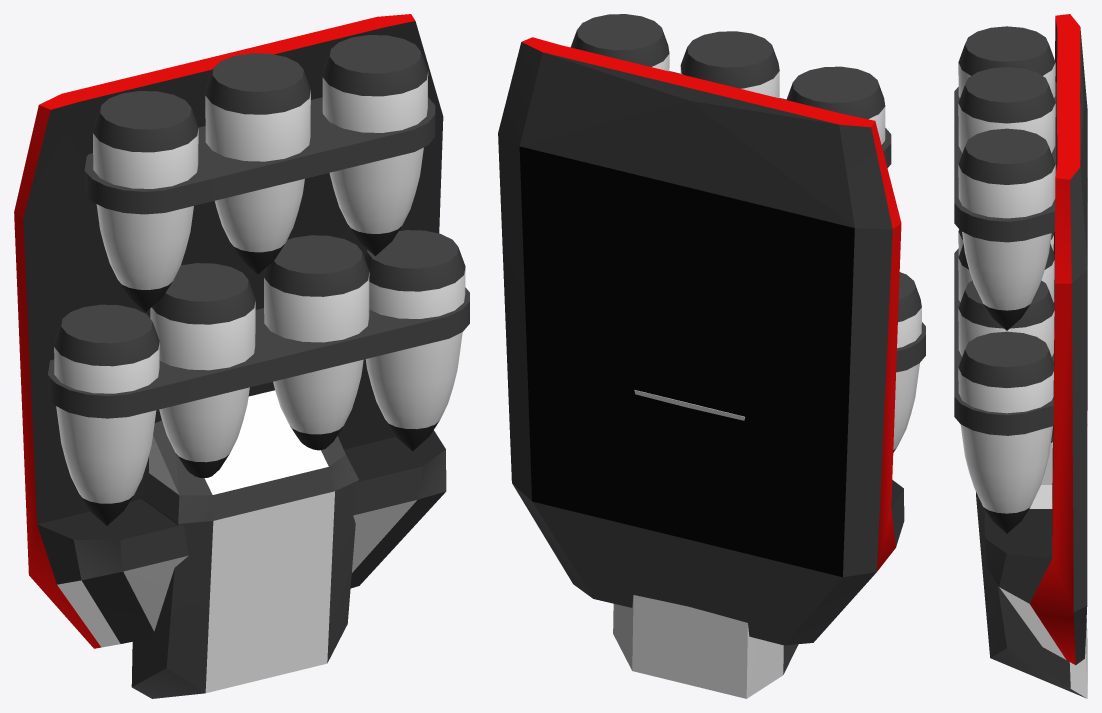
File: munitionTransporter.obj
3 renders of one model, left to right at view 1: azimuth 30°, elevation 25°; view 2: azimuth 150°, elevation 25°; view 3: azimuth 270°, elevation 25°, orthographic. The views are drawn at different scales.
Parts seen in each view (by area): view 1: Box017, Box019, Cone012, Cone004, Cone009, Cone007, Cone010, Cone011, Cone013, Cylinder028, Cylinder029; view 2: Box017, Box019, Cone009, Cone004, Cone007, Cone012, Cylinder028; view 3: Box017, Cone013, Cone007, Box019, Cone009, Cone004, Cylinder029, Cone010, Cylinder028, Cone011.
Boxes of the visible parts, x1,y1,x2,y2 form: Box017: [14, 14, 446, 648]; Box019: [131, 390, 359, 698]; Cone012: [54, 304, 159, 525]; Cone004: [93, 91, 198, 312]; Cone009: [205, 53, 310, 274]; Cone007: [322, 35, 428, 256]; Cone010: [264, 235, 369, 450]; Cone011: [150, 263, 255, 477]; Cone013: [364, 230, 465, 451]; Cylinder028: [47, 287, 469, 418]; Cylinder029: [84, 97, 435, 214]; Box017: [498, 37, 904, 645]; Box019: [613, 390, 798, 698]; Cone009: [680, 31, 779, 98]; Cone004: [786, 66, 885, 144]; Cone007: [570, 14, 669, 71]; Cone012: [893, 272, 921, 452]; Cylinder028: [896, 322, 925, 372]; Box017: [984, 14, 1087, 665]; Cone013: [958, 331, 1053, 533]; Cone007: [958, 128, 1055, 330]; Box019: [976, 411, 1087, 698]; Cone009: [958, 67, 1055, 153]; Cone004: [958, 26, 1055, 97]; Cylinder029: [954, 82, 1056, 242]; Cone010: [958, 280, 1054, 356]; Cylinder028: [954, 248, 1054, 435]; Cone011: [958, 243, 1054, 302].
Size of the model in its own units: 1.44 by 2.11 by 0.4337.
